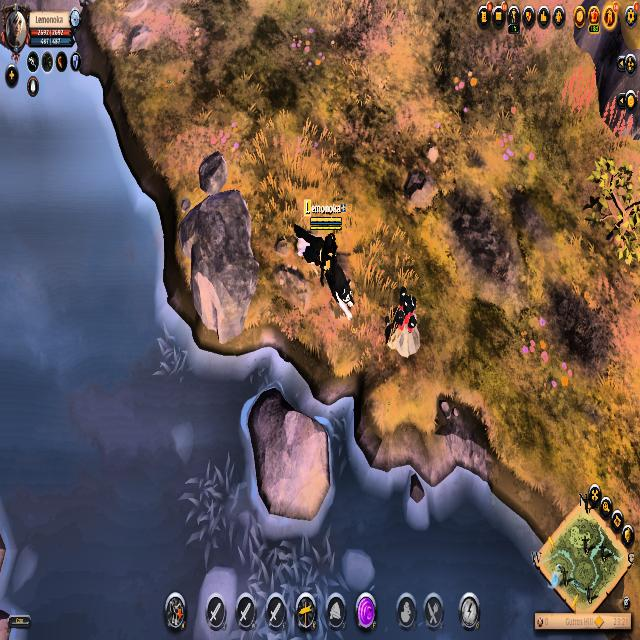ore tier 5: (385, 286, 422, 358)
